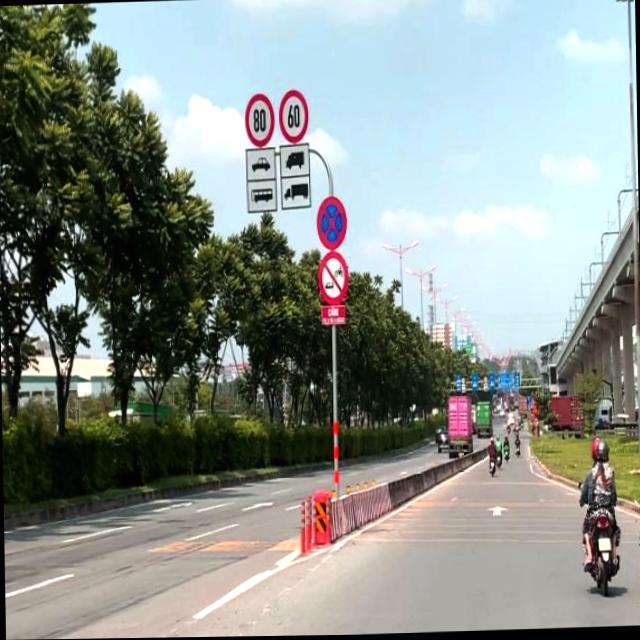Cam dung xe va do xe: (314, 193, 349, 253)
Toc do toi da cho phep: (242, 92, 276, 148), (278, 89, 308, 144)
